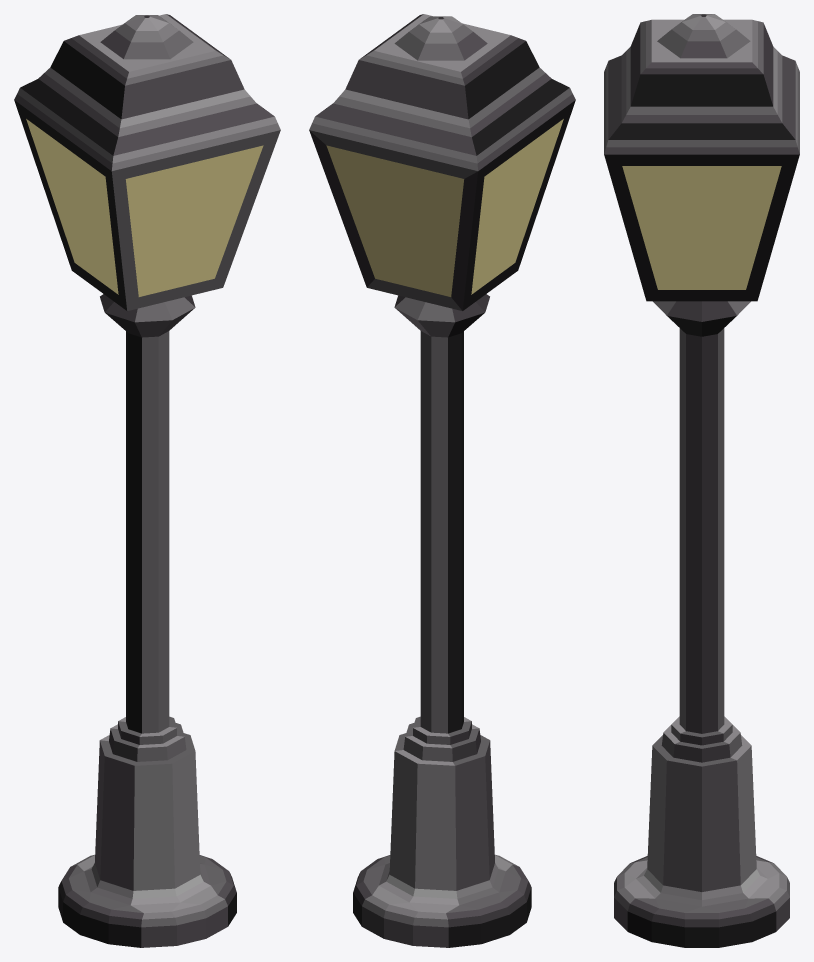
File: BAKE_EXT_L2_StreetLamp_01.fbx
The picture shows the model from 3 angles, left to right: view 1: azimuth 30°, elevation 25°; view 2: azimuth 150°, elevation 25°; view 3: azimuth 270°, elevation 25°; orthographic projection.
Parts seen in each view (by area): view 1: BAKE_EXT_L2_StreetLamp_01; view 2: BAKE_EXT_L2_StreetLamp_01; view 3: BAKE_EXT_L2_StreetLamp_01.
Boxes of the visible parts, x1,y1,x2,y2 form: BAKE_EXT_L2_StreetLamp_01: (14,14,280,947); BAKE_EXT_L2_StreetLamp_01: (309,14,575,947); BAKE_EXT_L2_StreetLamp_01: (604,14,799,947).
Bounding box in the file's own units: 0.6287 × 3.17 × 0.6287.
